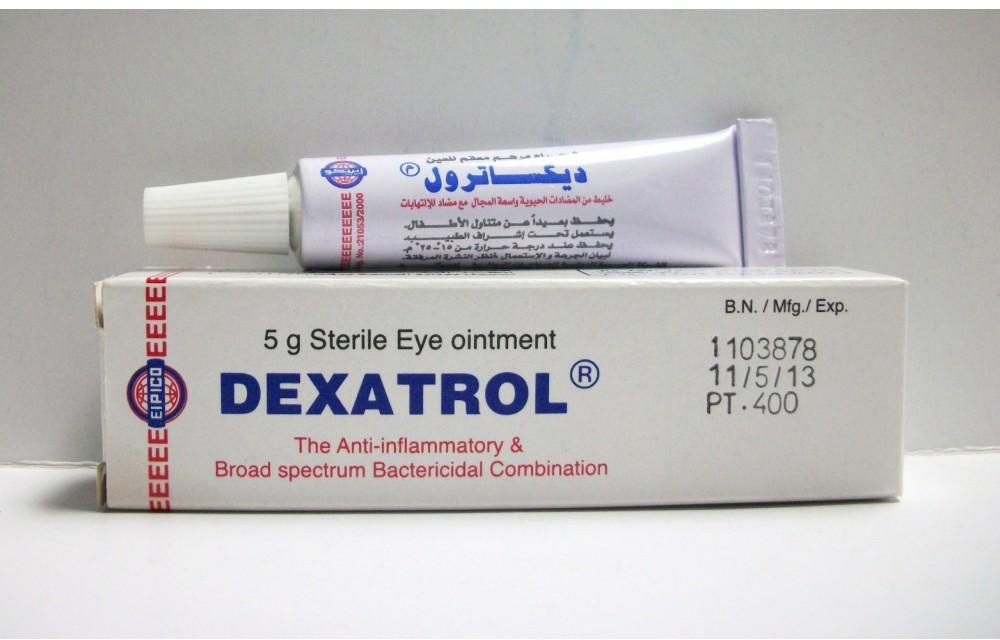Medicine: (87, 252, 917, 512), (133, 113, 803, 278)
